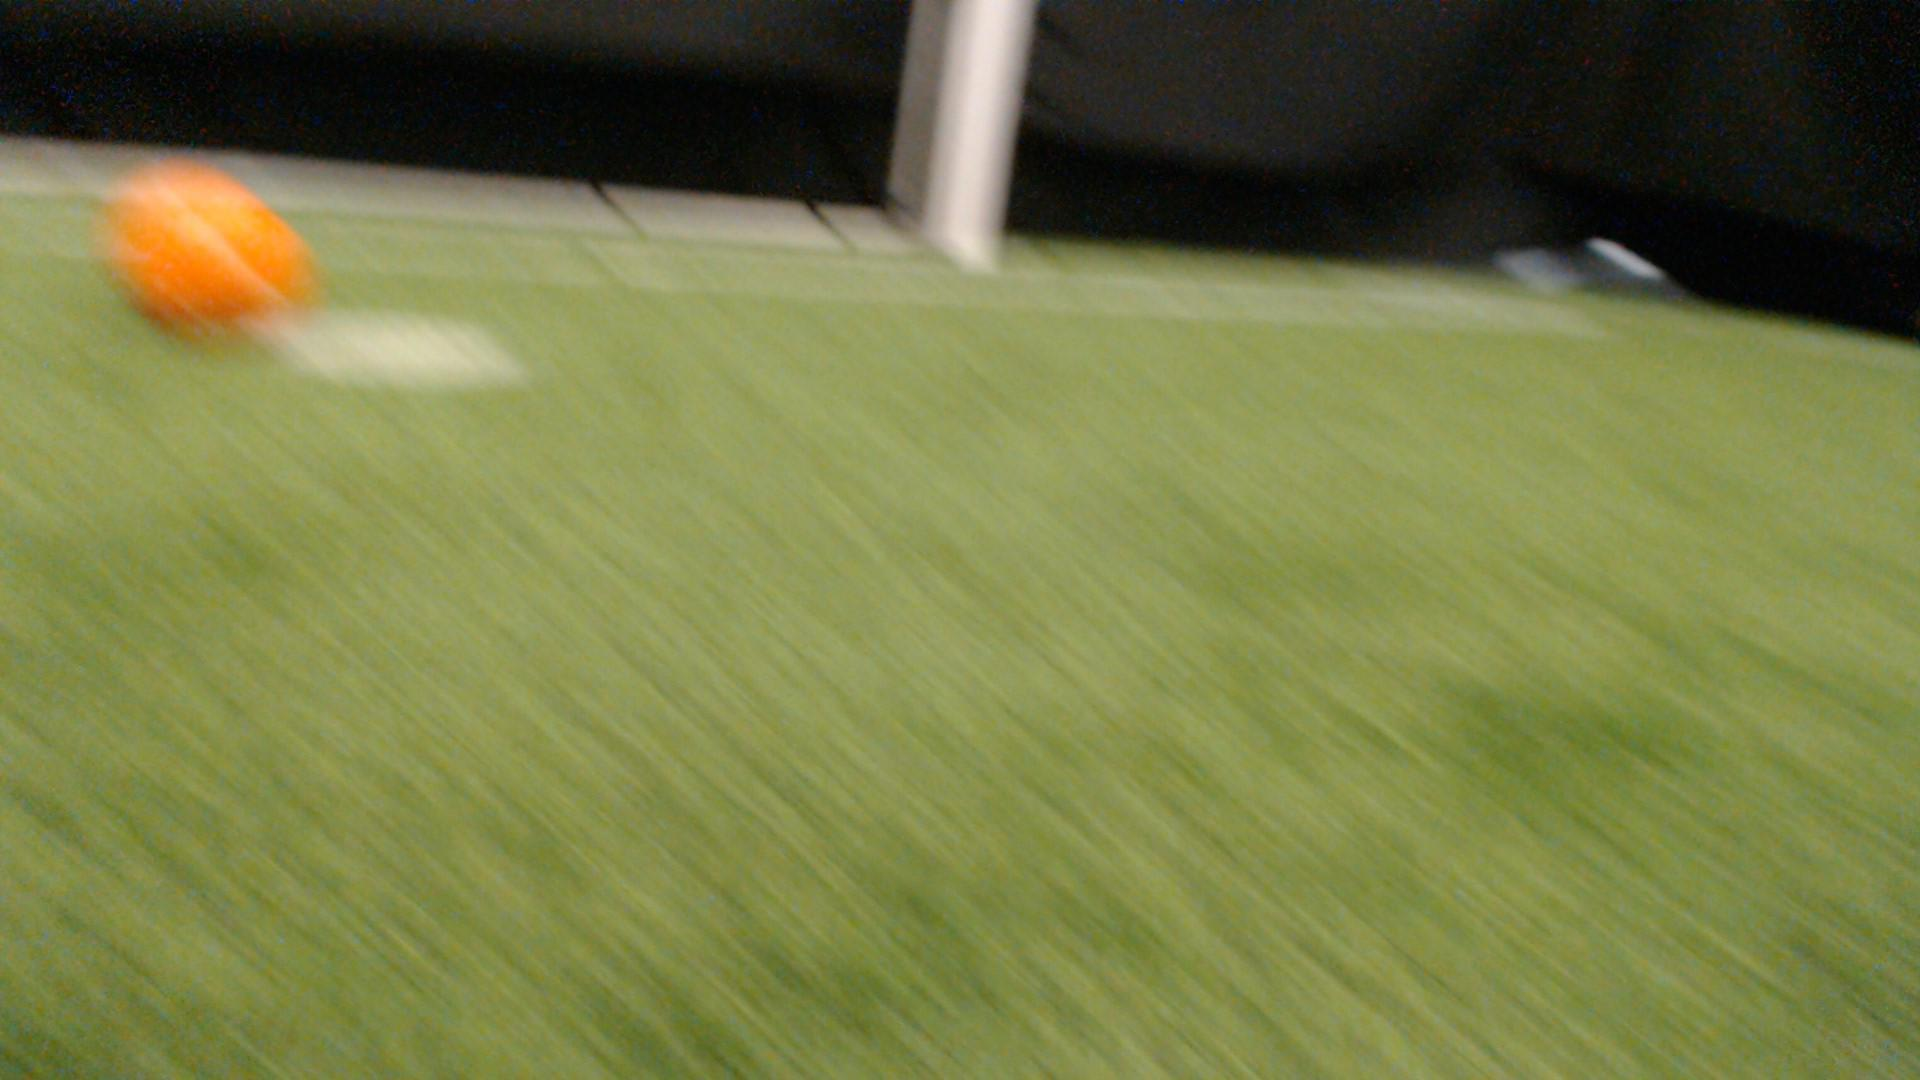bola: (98, 149, 319, 344)
